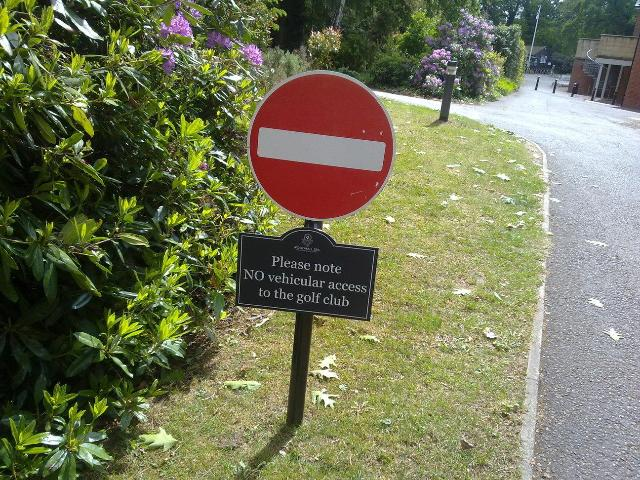B2: (246, 68, 396, 222)
